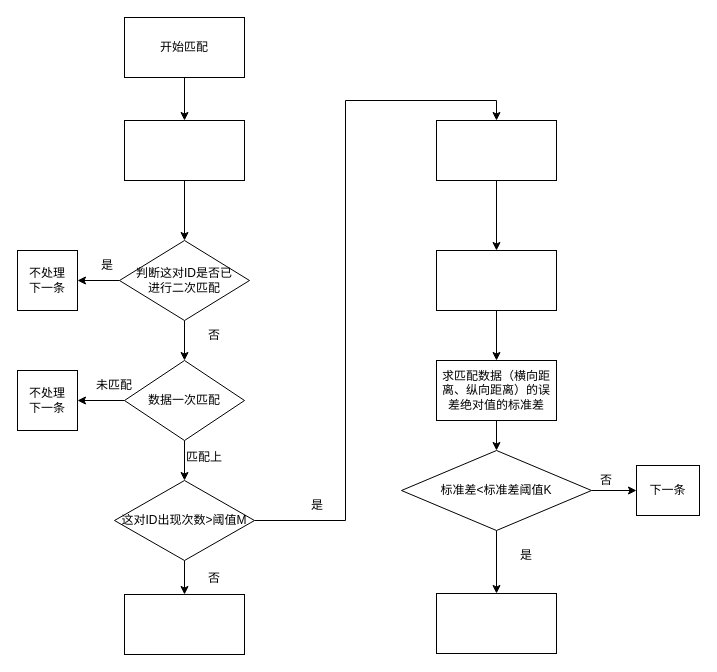
The diagram is 717 pixels wide and 672 high, and some of its shapes have lost their labels. The centre of each missing label's shape, as x and y in pixels:
分别获取A/B对应id下的数据: point (496, 150)
根据时间，将A/B数据一一对应: point (496, 280)
记录ID次数: point (184, 624)
记录匹配数据: point (496, 623)
读取A/B传感器数据列表，依序遍历A传感器数据(如图): point (184, 150)
